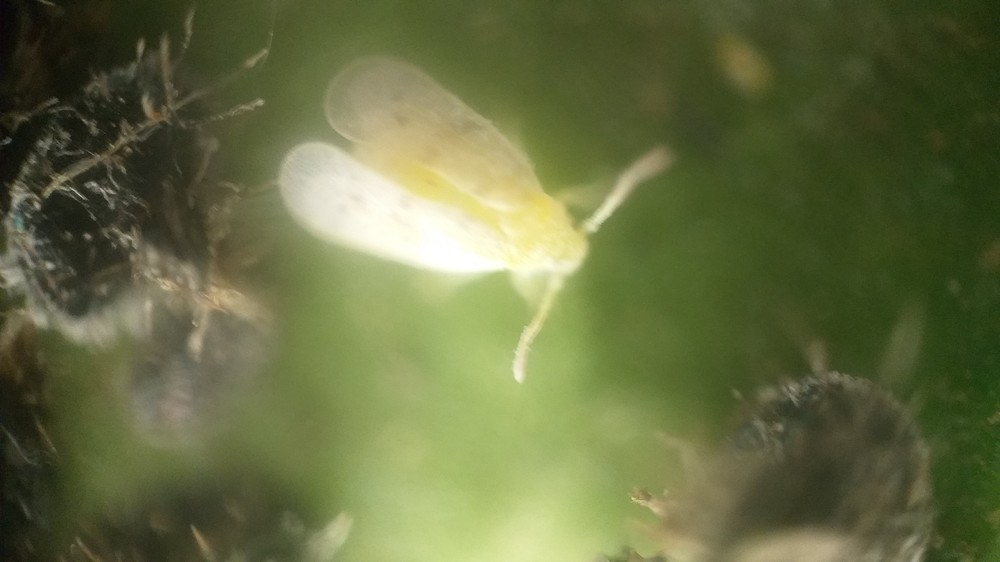Mosca Blanca: (257, 44, 688, 396)
